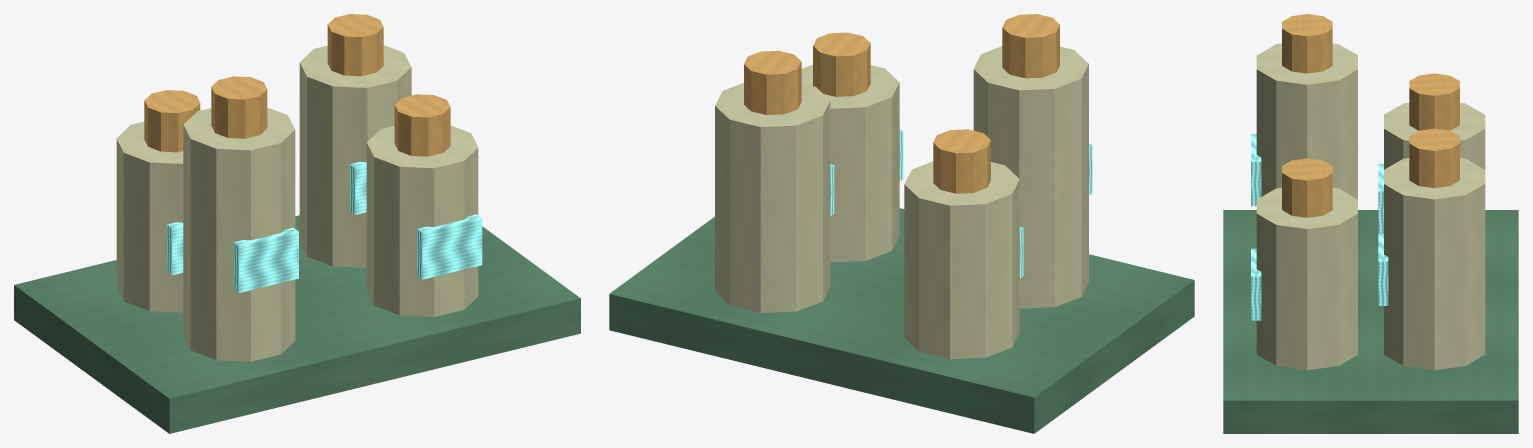
The model's file is atlas100-s001-a04.glb.
3 views of the same model, side by side, from view 1: azimuth 30°, elevation 25°; view 2: azimuth 150°, elevation 25°; view 3: azimuth 270°, elevation 25° (orthographic). The views are drawn at different scales.
Visible parts, largest first — view 1: atlas100-s001-a04:part-000, atlas100-s001-a04:part-007, atlas100-s001-a04:part-010, atlas100-s001-a04:part-004, atlas100-s001-a04:part-001, atlas100-s001-a04:part-012, atlas100-s001-a04:part-009, atlas100-s001-a04:part-011, atlas100-s001-a04:part-005, atlas100-s001-a04:part-008, atlas100-s001-a04:part-002, atlas100-s001-a04:part-003 (+1 smaller); view 2: atlas100-s001-a04:part-000, atlas100-s001-a04:part-004, atlas100-s001-a04:part-007, atlas100-s001-a04:part-001, atlas100-s001-a04:part-010, atlas100-s001-a04:part-002, atlas100-s001-a04:part-008, atlas100-s001-a04:part-005, atlas100-s001-a04:part-011; view 3: atlas100-s001-a04:part-000, atlas100-s001-a04:part-004, atlas100-s001-a04:part-010, atlas100-s001-a04:part-007, atlas100-s001-a04:part-001, atlas100-s001-a04:part-005, atlas100-s001-a04:part-011, atlas100-s001-a04:part-008, atlas100-s001-a04:part-002, atlas100-s001-a04:part-012, atlas100-s001-a04:part-006, atlas100-s001-a04:part-009 (+1 smaller).
Part boxes in pixels (<box>): atlas100-s001-a04:part-000: <box>14,215,580,433</box>; atlas100-s001-a04:part-007: <box>183,107,295,361</box>; atlas100-s001-a04:part-010: <box>366,125,478,316</box>; atlas100-s001-a04:part-004: <box>299,45,411,267</box>; atlas100-s001-a04:part-001: <box>116,121,183,312</box>; atlas100-s001-a04:part-012: <box>417,214,482,279</box>; atlas100-s001-a04:part-009: <box>233,227,298,292</box>; atlas100-s001-a04:part-011: <box>394,94,450,156</box>; atlas100-s001-a04:part-005: <box>327,14,383,76</box>; atlas100-s001-a04:part-008: <box>211,76,267,138</box>; atlas100-s001-a04:part-002: <box>144,90,200,152</box>; atlas100-s001-a04:part-003: <box>166,222,183,275</box>; atlas100-s001-a04:part-000: <box>609,208,1194,433</box>; atlas100-s001-a04:part-004: <box>715,83,830,312</box>; atlas100-s001-a04:part-007: <box>973,46,1088,308</box>; atlas100-s001-a04:part-001: <box>904,161,1019,359</box>; atlas100-s001-a04:part-010: <box>801,64,899,262</box>; atlas100-s001-a04:part-002: <box>933,129,990,193</box>; atlas100-s001-a04:part-008: <box>1002,14,1059,78</box>; atlas100-s001-a04:part-005: <box>744,50,801,114</box>; atlas100-s001-a04:part-011: <box>813,32,870,96</box>; atlas100-s001-a04:part-000: <box>1223,210,1518,433</box>; atlas100-s001-a04:part-004: <box>1384,158,1485,370</box>; atlas100-s001-a04:part-010: <box>1256,187,1357,370</box>; atlas100-s001-a04:part-007: <box>1256,43,1357,199</box>; atlas100-s001-a04:part-001: <box>1384,103,1485,169</box>; atlas100-s001-a04:part-005: <box>1409,128,1459,187</box>; atlas100-s001-a04:part-011: <box>1282,158,1332,217</box>; atlas100-s001-a04:part-008: <box>1282,14,1332,73</box>; atlas100-s001-a04:part-002: <box>1409,73,1459,130</box>; atlas100-s001-a04:part-012: <box>1251,248,1261,320</box>; atlas100-s001-a04:part-006: <box>1378,233,1388,305</box>; atlas100-s001-a04:part-009: <box>1251,134,1261,206</box>.
Size of the model in its own units: 1.18 by 0.7804 by 0.7697.
Materials: 4 (4 with a texture image).
